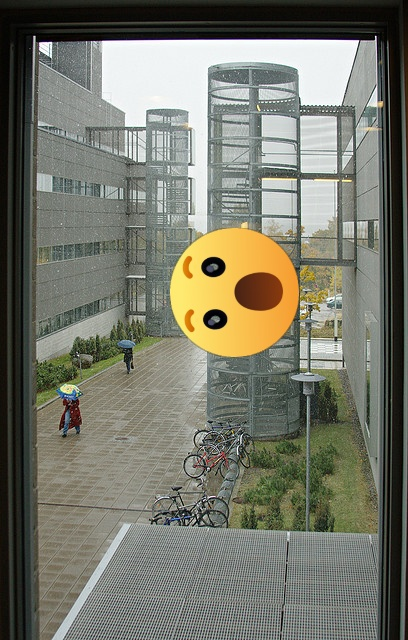wow: (170, 228, 299, 357)
